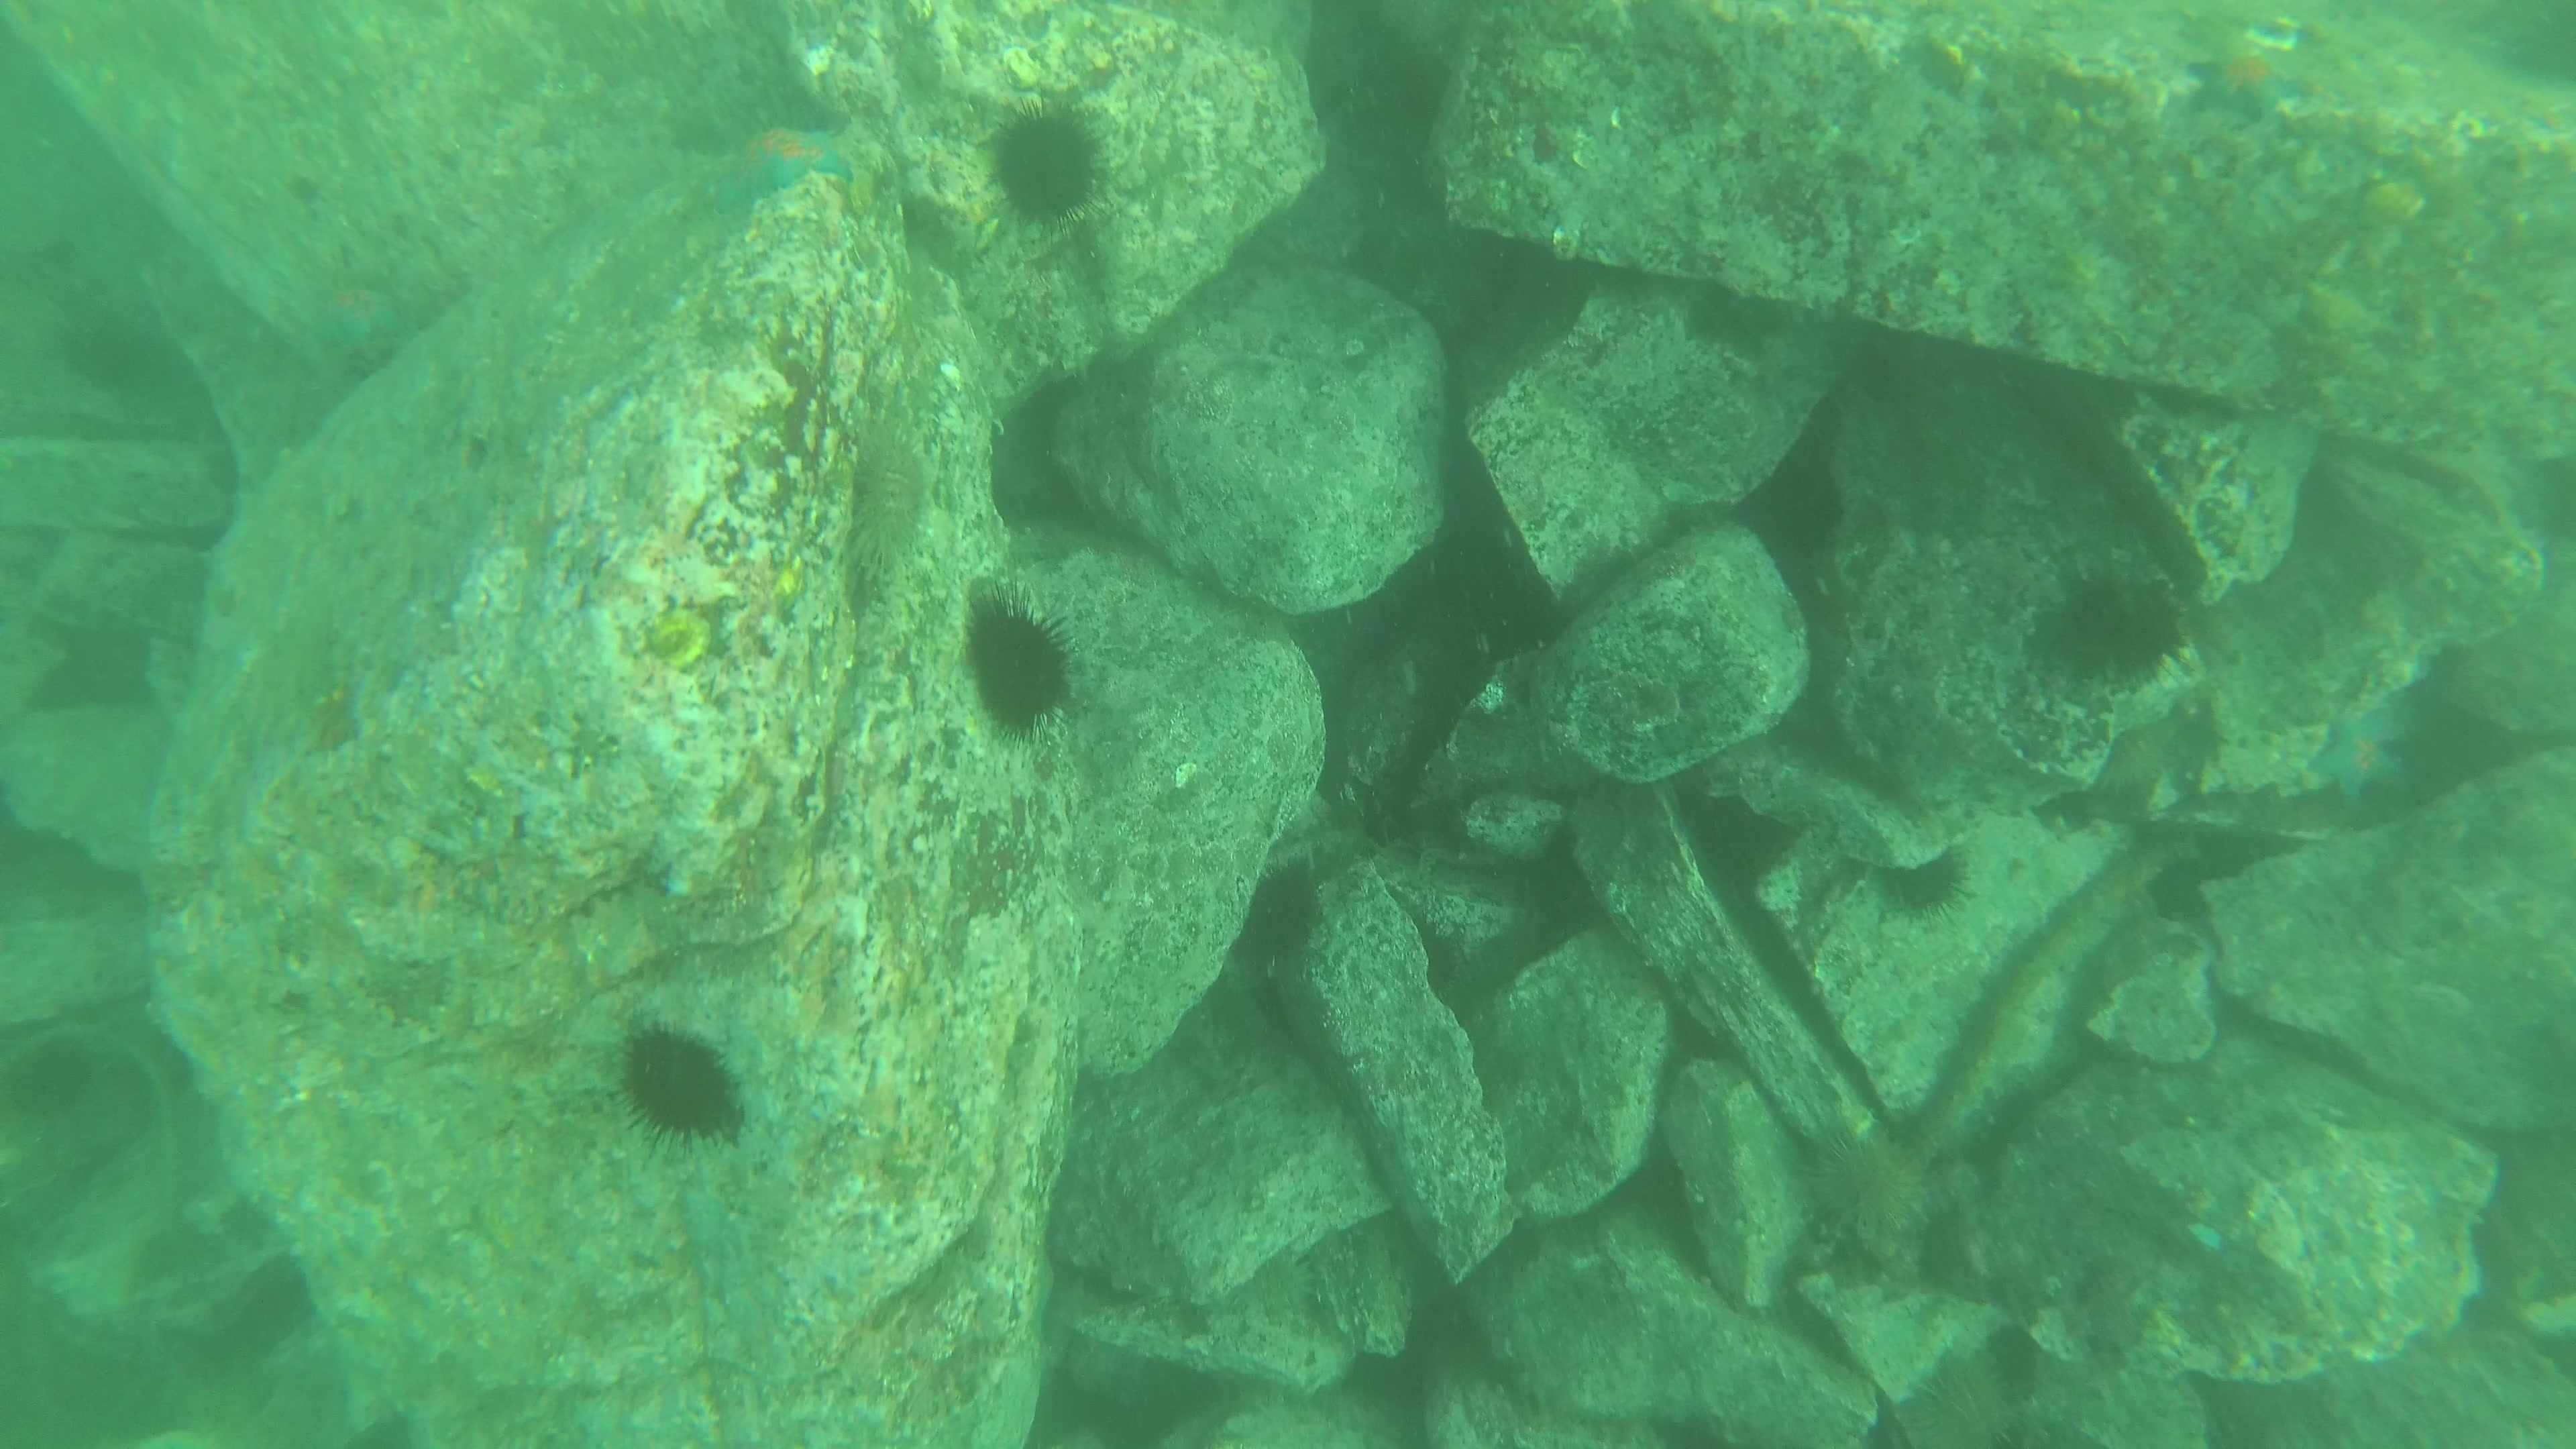echinus: (1787, 1115, 1943, 1263), (2033, 557, 2196, 690), (955, 587, 1083, 741), (609, 1017, 750, 1150), (980, 97, 1113, 232), (1888, 1350, 2049, 1449), (57, 308, 175, 402), (1237, 856, 1332, 970), (4, 1028, 104, 1127), (1867, 839, 1976, 925)
starfish: (704, 108, 860, 223), (283, 244, 421, 361), (2178, 30, 2318, 127), (2305, 695, 2419, 810)
